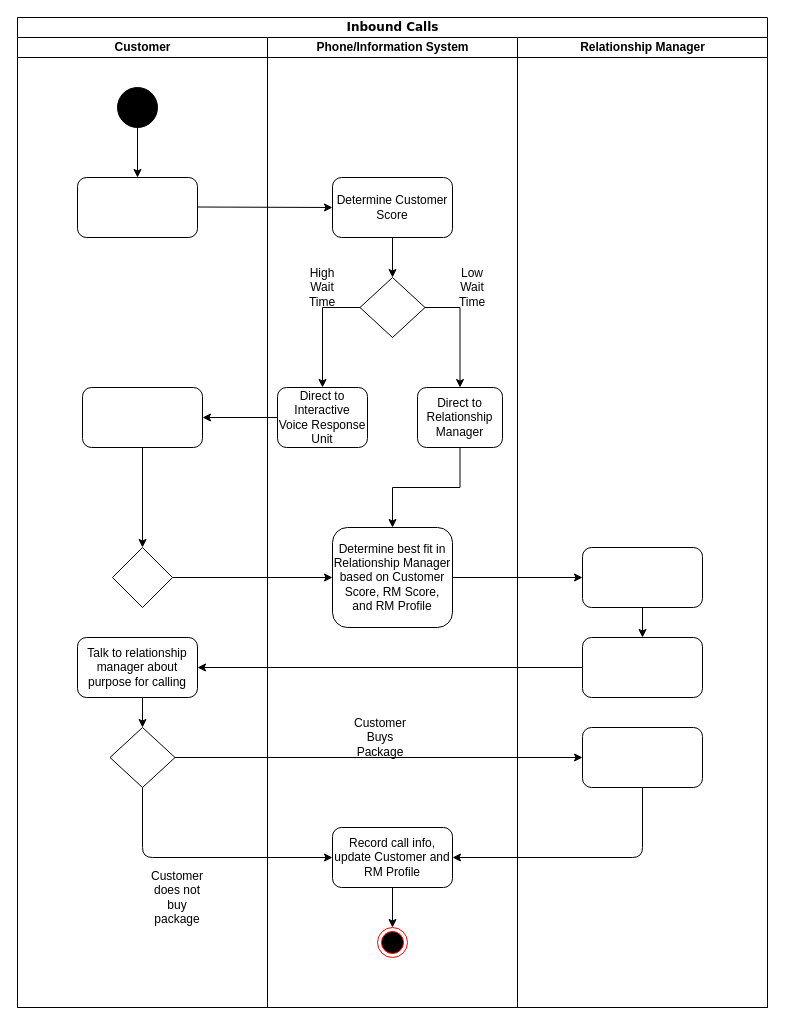
Some shapes in this 785 by 1025 pixel diagram are drawn without their labels. The shapes that lost their labels are listed below. From the top down, each one's centre as x and y in pixels, then its label:
the point at 137,207: Customer Calls Company
the point at 142,417: Give reason for call to Interactive Voice Response unit
the point at 642,577: Answer Call
the point at 642,667: Give pitch to customer
the point at 642,757: Record Sale
